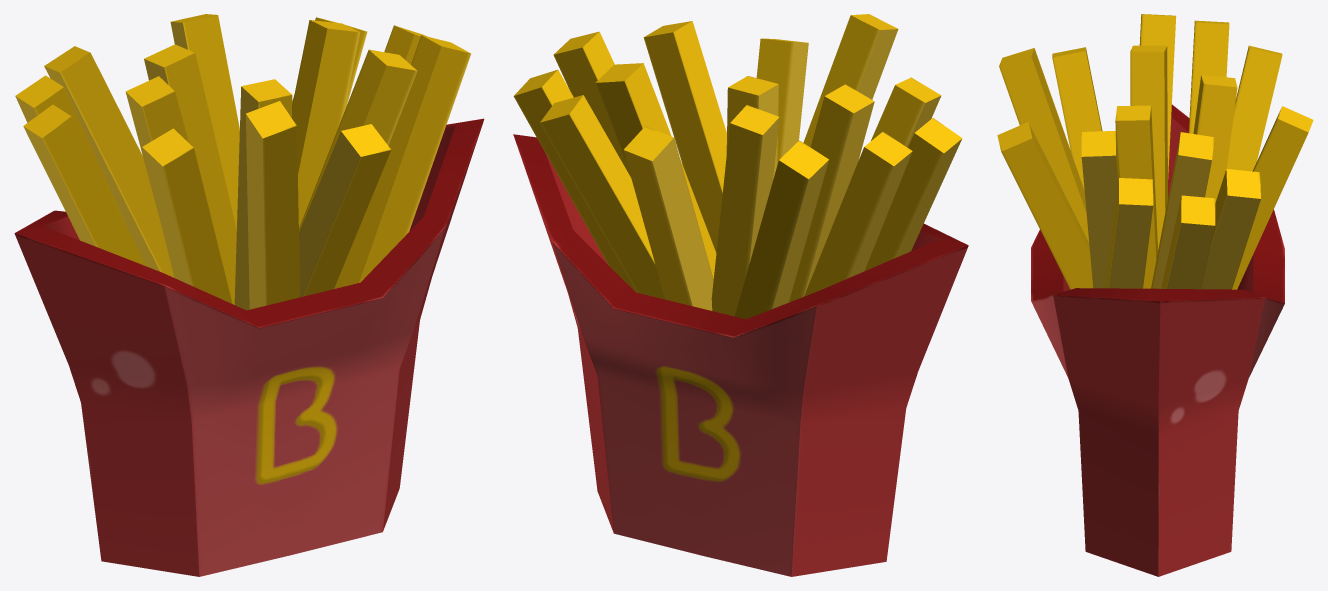
The model's file is Fries.fbx.
3 views of the same model, side by side, from view 1: azimuth 30°, elevation 25°; view 2: azimuth 150°, elevation 25°; view 3: azimuth 270°, elevation 25° (orthographic). The views are drawn at different scales.
Parts seen in each view (by area): view 1: Fries; view 2: Fries; view 3: Fries.
Part boxes in pixels (left/top/right/bottom): Fries: left=14, top=14, right=484, bottom=576; Fries: left=513, top=14, right=968, bottom=576; Fries: left=997, top=14, right=1313, bottom=576.
Bounding box in the file's own units: 6.58 × 6.5 × 4.26.
